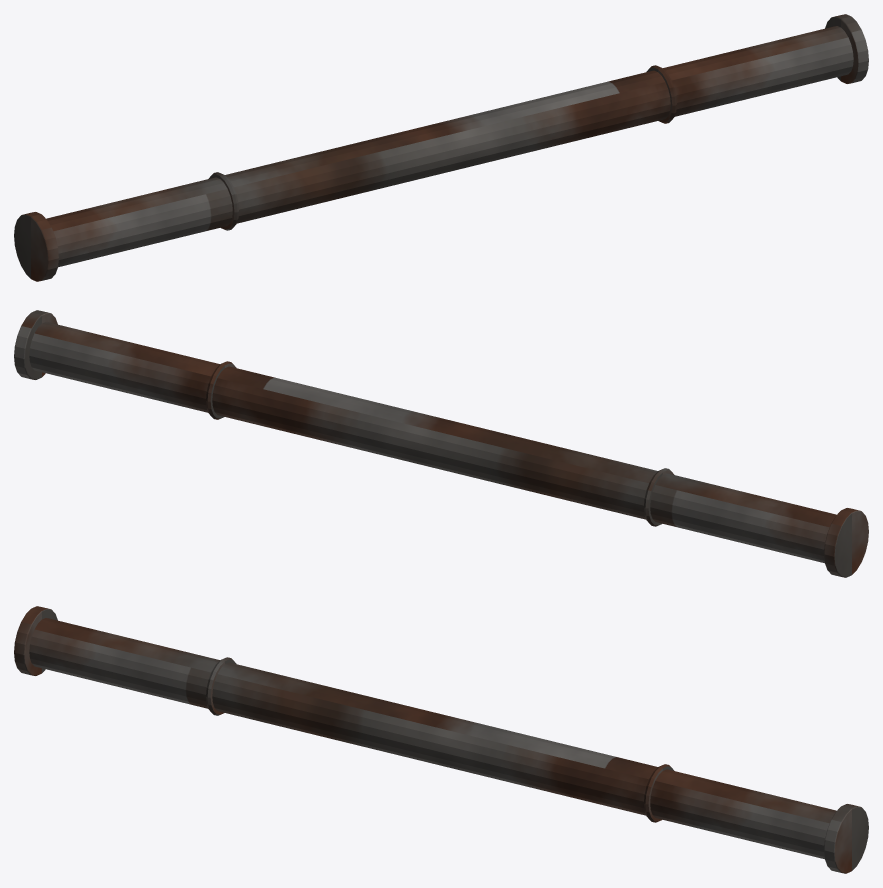
File: F23_pipe_straight.glb
3 renders of one model, top to bottom at view 1: azimuth 30°, elevation 25°; view 2: azimuth 150°, elevation 25°; view 3: azimuth 330°, elevation 25°, orthographic.
Parts seen in each view (by area): view 1: F23_pipe_straight; view 2: F23_pipe_straight; view 3: F23_pipe_straight.
Boxes of the visible parts, left/top/right/bottom form: F23_pipe_straight: left=14, top=14, right=868, bottom=281; F23_pipe_straight: left=14, top=310, right=868, bottom=577; F23_pipe_straight: left=14, top=606, right=868, bottom=873.
Bounding box in the file's own units: 3 × 0.22 × 0.22.
1 material, 1 textured.
